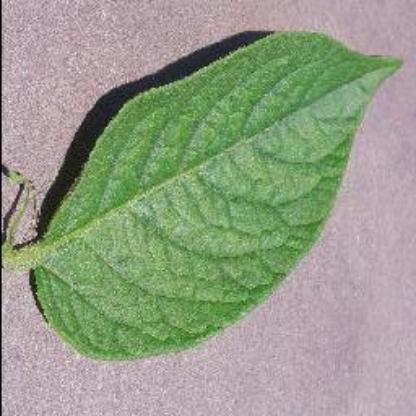Healthy-plant: (2, 19, 404, 367)
